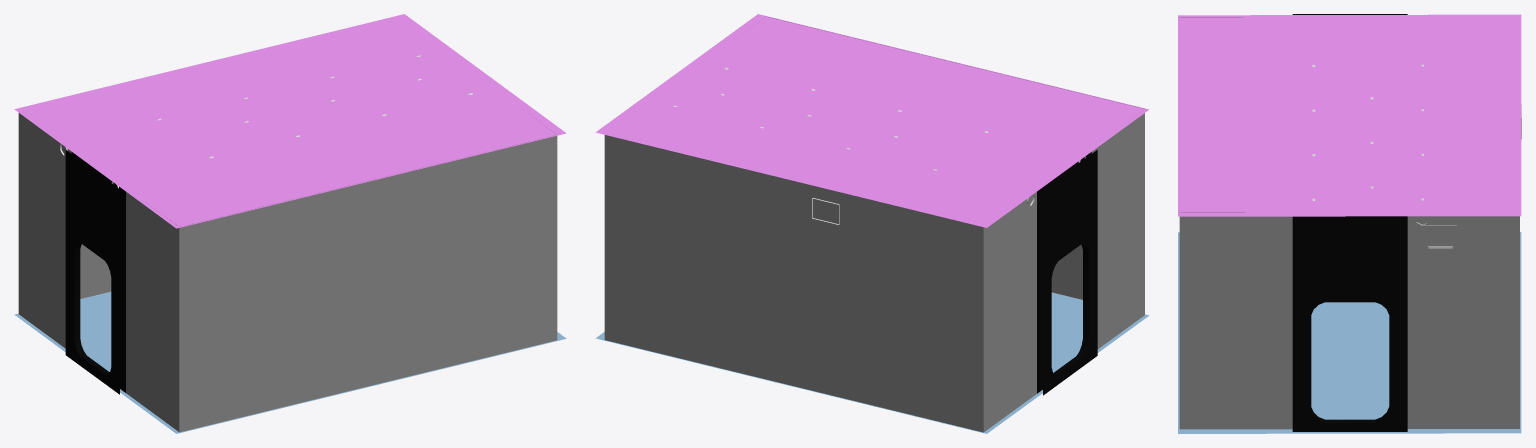
The model's file is captain's office.FBX.
The picture shows the model from 3 angles, left to right: view 1: azimuth 30°, elevation 25°; view 2: azimuth 150°, elevation 25°; view 3: azimuth 270°, elevation 25°; orthographic projection. The views are drawn at different scales.
Visible parts, largest first — view 1: Object107, Box026, Object104, Object103; view 2: Object104, Box026, Object107, Object103; view 3: Box026, Object107, Object104, Object108.
Part boxes in pixels (x1=…): Object107: x1=126, y1=133, x2=557, y2=432; Box026: x1=14, y1=14, x2=566, y2=433; Object104: x1=18, y1=113, x2=111, y2=348; Object103: x1=65, y1=150, x2=125, y2=394; Object104: x1=604, y1=135, x2=1036, y2=432; Box026: x1=595, y1=14, x2=1149, y2=433; Object107: x1=759, y1=17, x2=1144, y2=348; Object103: x1=1037, y1=150, x2=1097, y2=395; Box026: x1=1178, y1=14, x2=1521, y2=433; Object107: x1=1179, y1=17, x2=1292, y2=429; Object104: x1=1407, y1=216, x2=1519, y2=428; Object108: x1=1292, y1=216, x2=1407, y2=431.
Bounding box in the file's own units: 61.48 × 30.92 × 44.08.
